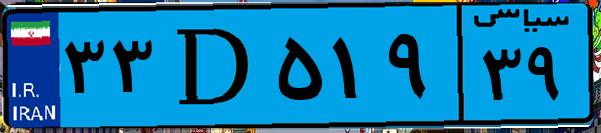1: (330, 28, 385, 110)
3: (57, 26, 110, 100), (475, 38, 525, 113), (110, 28, 158, 98)
5: (270, 28, 330, 110)
9: (385, 28, 445, 110), (525, 38, 570, 115)
D: (158, 12, 270, 120)
